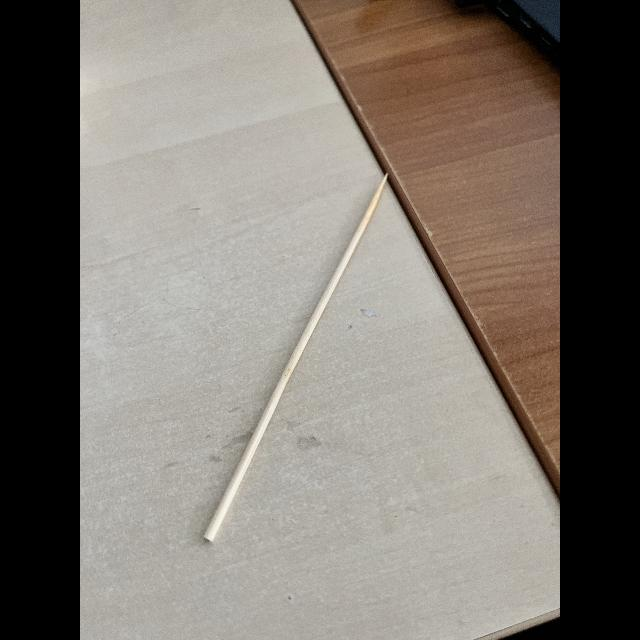stick: (175, 151, 418, 561)
